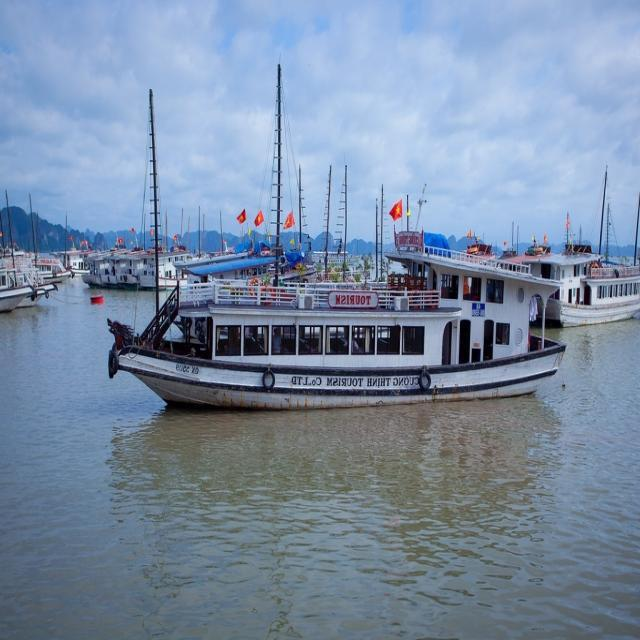boat: (86, 288, 580, 410)
